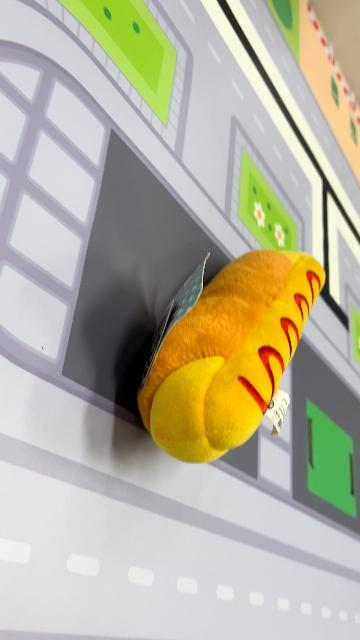hotdog: (137, 248, 328, 466)
